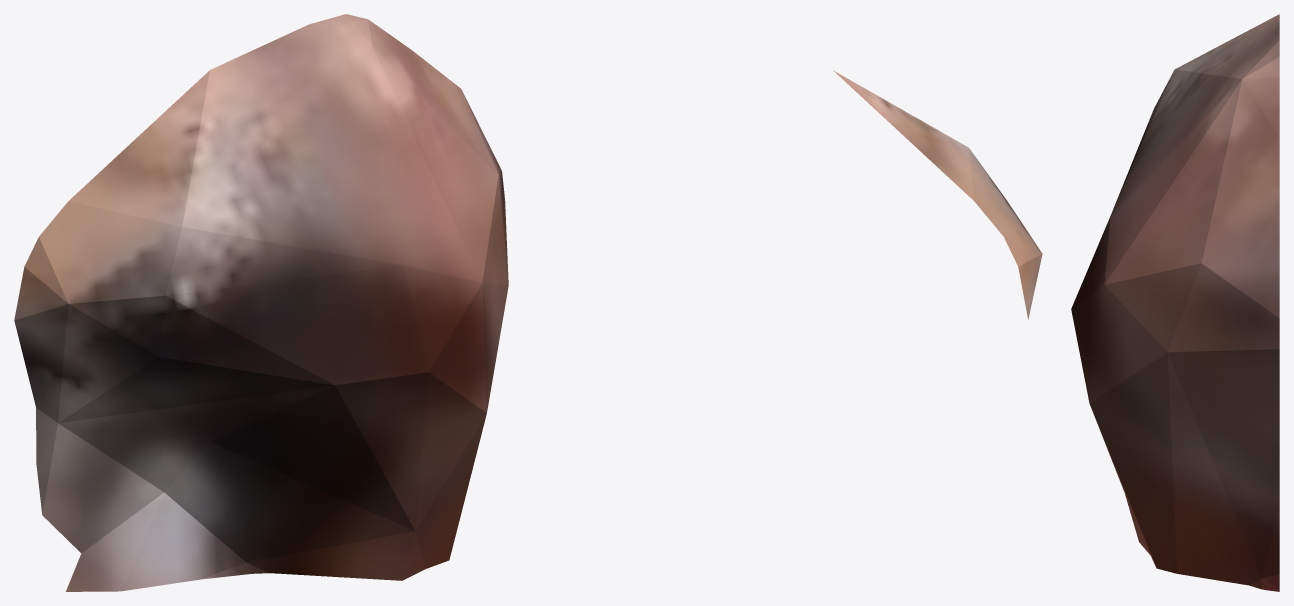
3 renders of one model, left to right at view 1: azimuth 30°, elevation 25°; view 2: azimuth 150°, elevation 25°; view 3: azimuth 270°, elevation 25°, orthographic. The views are drawn at different scales.
Size of the model in its own units: 0.1602 by 0.1589 by 0.0609.
1 material, 1 textured.
